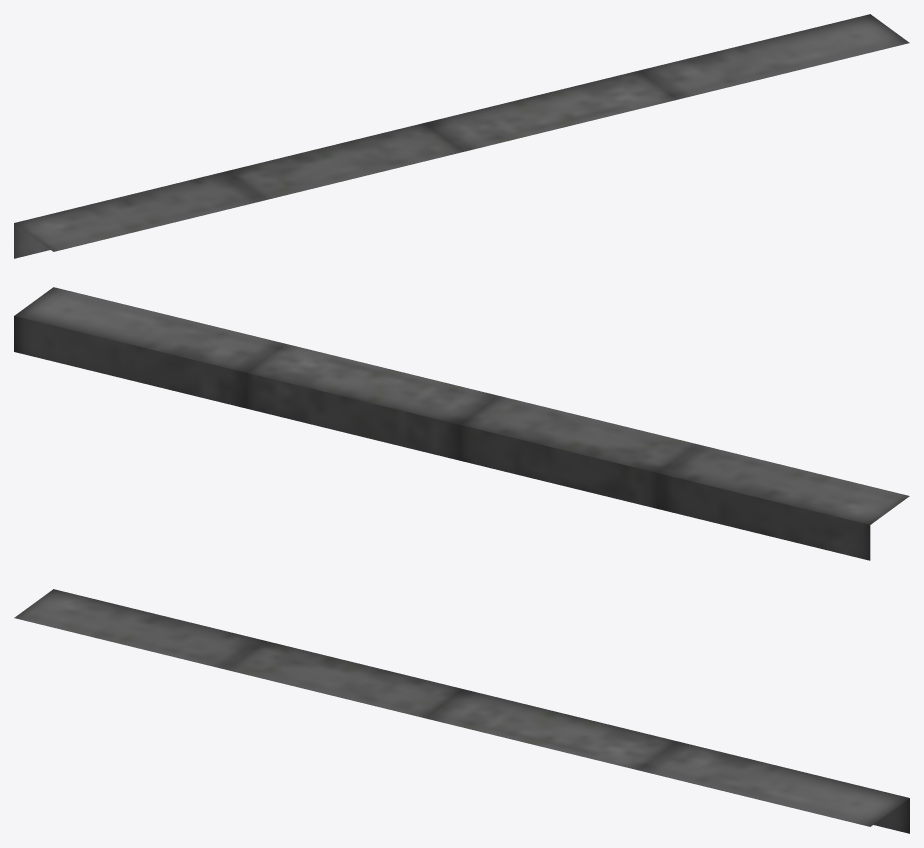
Rendered from curb.fbx.
3 renders of one model, top to bottom at view 1: azimuth 30°, elevation 25°; view 2: azimuth 150°, elevation 25°; view 3: azimuth 330°, elevation 25°, orthographic.
Visible parts, largest first — view 1: curb; view 2: curb; view 3: curb.
Part boxes in pixels (x1,y1,x2,y2): curb: (14, 14, 909, 258); curb: (14, 287, 909, 560); curb: (14, 589, 909, 833).
Size of the model in its own units: 500 by 40 by 20.
1 material, 1 textured.
